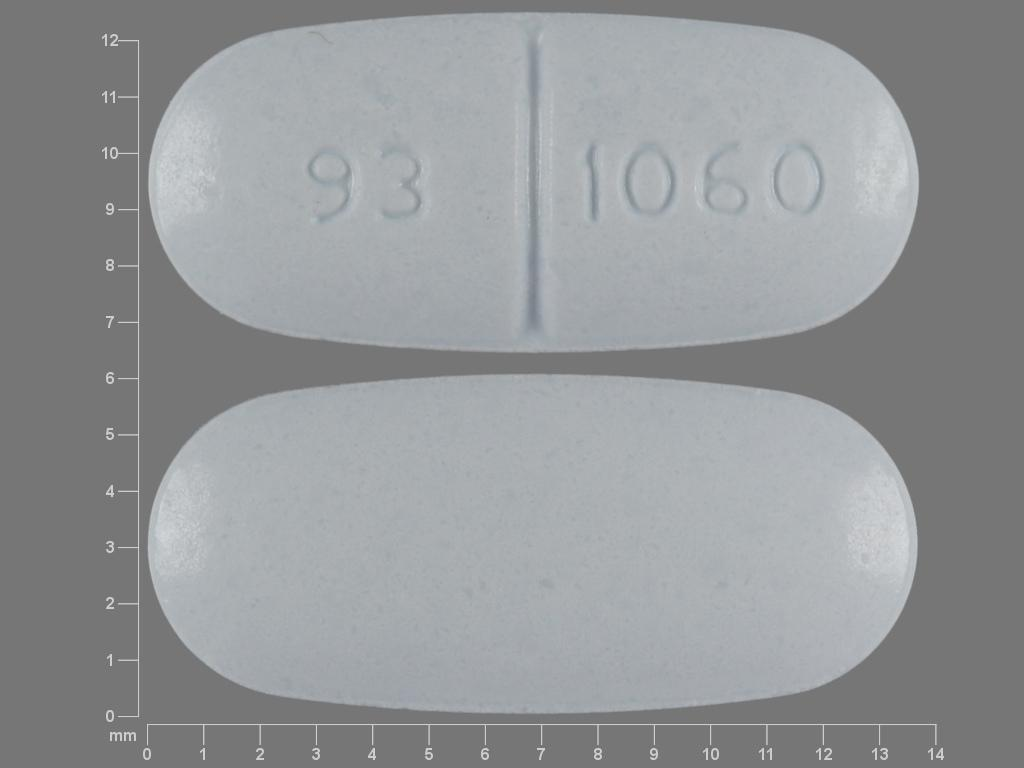Pill: (141, 4, 930, 361)
